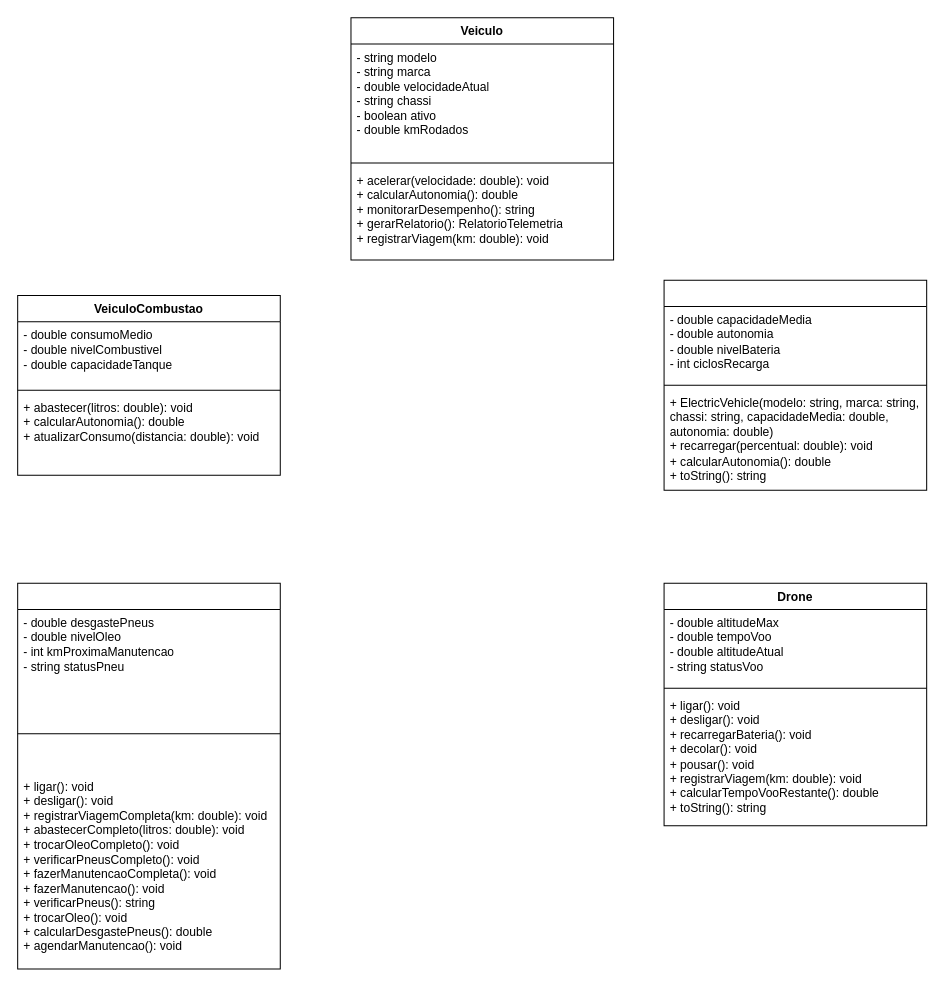
This 944x990 diagram has some shape labels left out. Here are the shapes that lost their labels. From the top down, the box of each, then its label:
(663, 279, 927, 490): VeiculoEletrico
(17, 582, 280, 969): Carro
